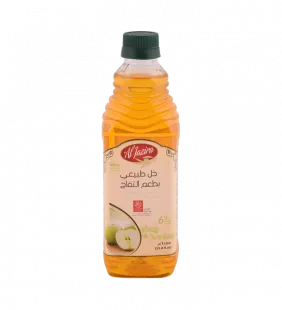AL JAZIRA: (92, 21, 188, 284)
